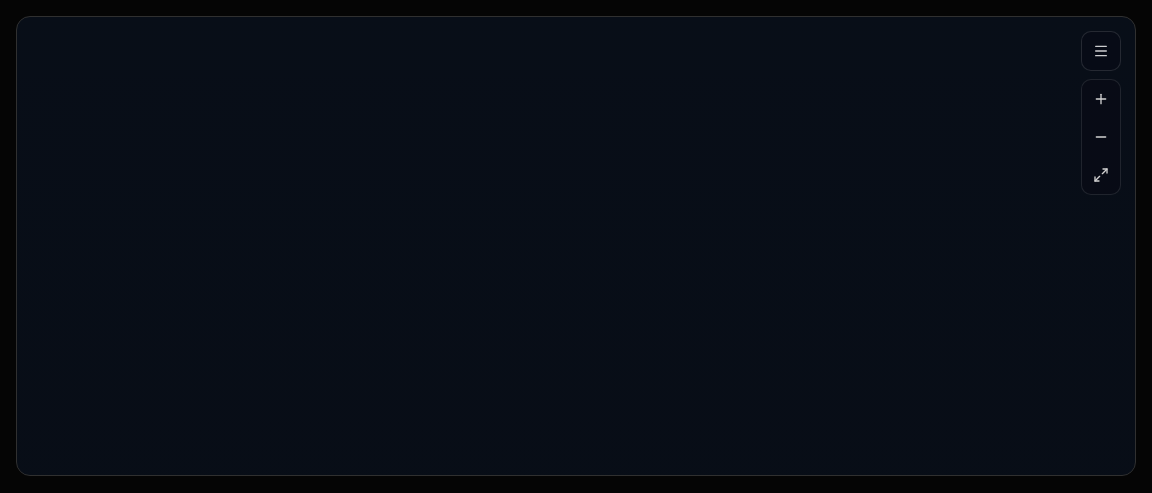
Scenario: WorldHeatmap in-map menu › opens from the hamburger and closes on a press on the map canvas
Click the button named "Map controls". click: click(1101, 51)
box: [1081,31,1121,71]
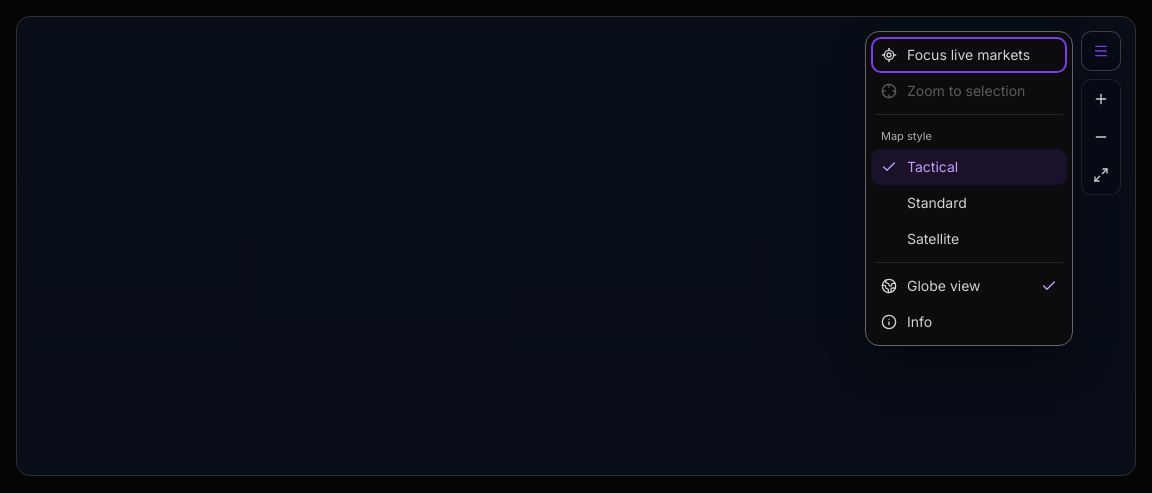
Check: the element with class "world-heatmap-menu-panel" is shown, box [865,31,1073,346]
Check: the button named "Map controls" is expanded, box [1081,31,1121,71]
Press the mouse on the drawing at (167, 92), box [17,17,317,167]
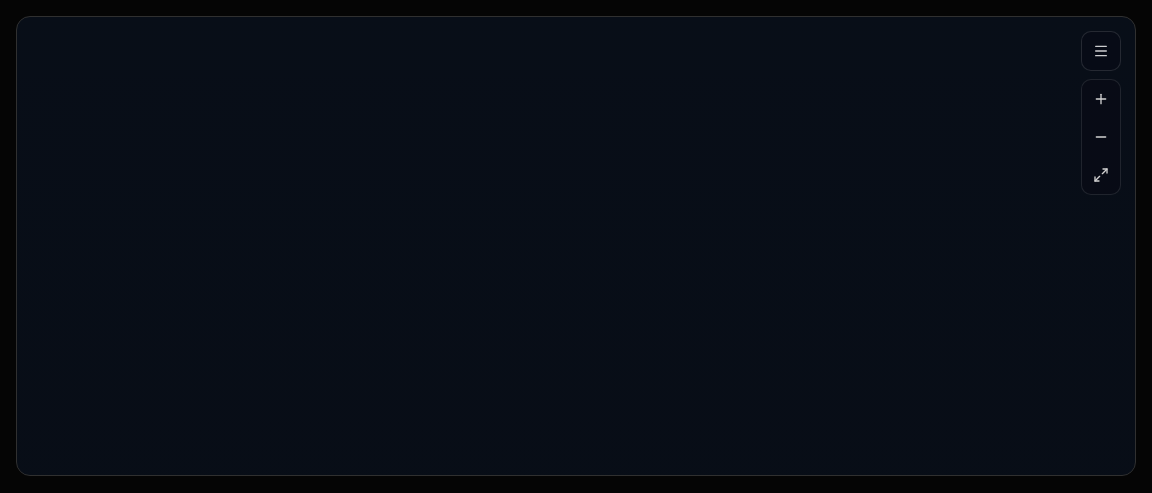
Check: the element with class "world-heatmap-menu-panel" is gone
Check: the button named "Map controls" is collapsed, box [1081,31,1121,71]
